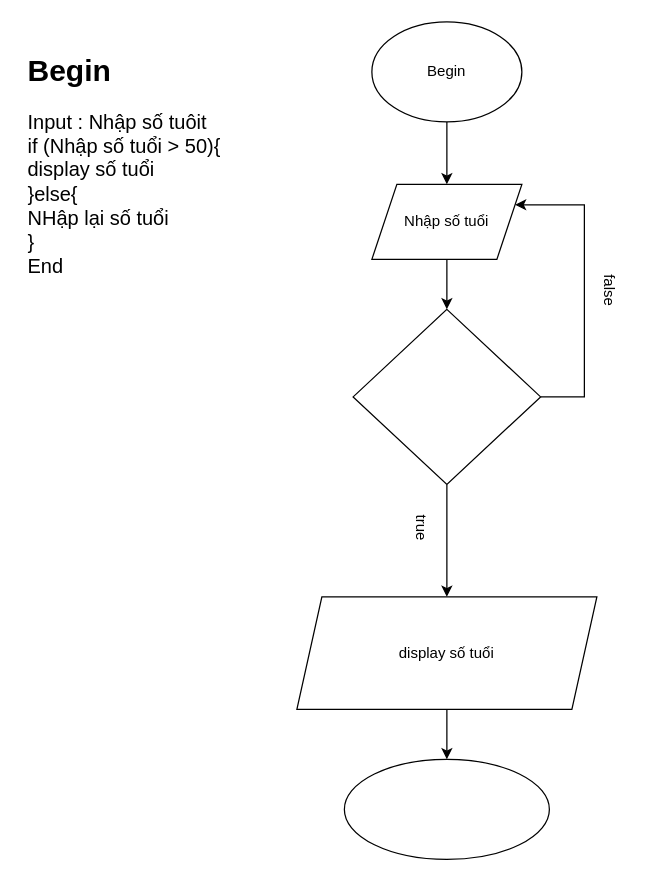
This 649x881 diagram has some shape labels left out. The centre of each missing label's shape, as x and y in pixels:
"End" belongs at point (446, 808).
"if (Nhập số tuổi > 50){ }" belongs at point (446, 396).
